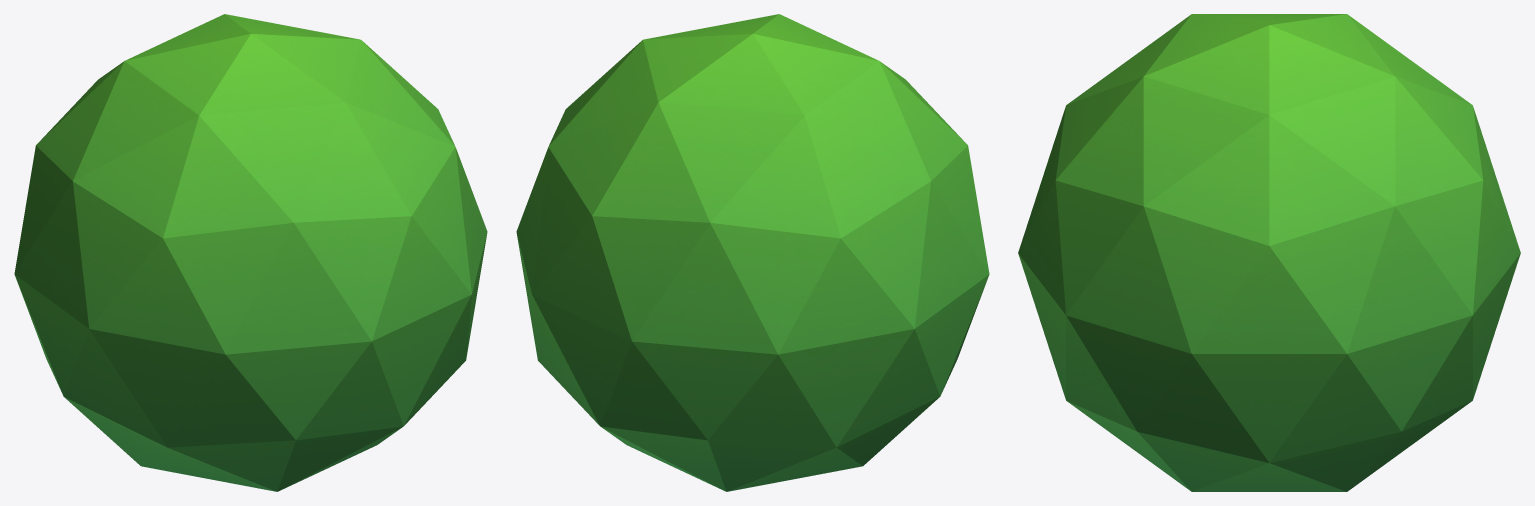
Rendered from tree_leaf.glb.
3 renders of one model, left to right at view 1: azimuth 30°, elevation 25°; view 2: azimuth 150°, elevation 25°; view 3: azimuth 270°, elevation 25°, orthographic. The views are drawn at different scales.
Parts seen in each view (by area): view 1: AppleTreeLeaves; view 2: AppleTreeLeaves; view 3: AppleTreeLeaves.
Boxes of the visible parts, x1,y1,x2,y2 form: AppleTreeLeaves: (14,14,487,491); AppleTreeLeaves: (516,14,989,491); AppleTreeLeaves: (1018,14,1520,491).
Size of the model in its own units: 1.9 by 1.85 by 2.
1 material, 1 textured.
